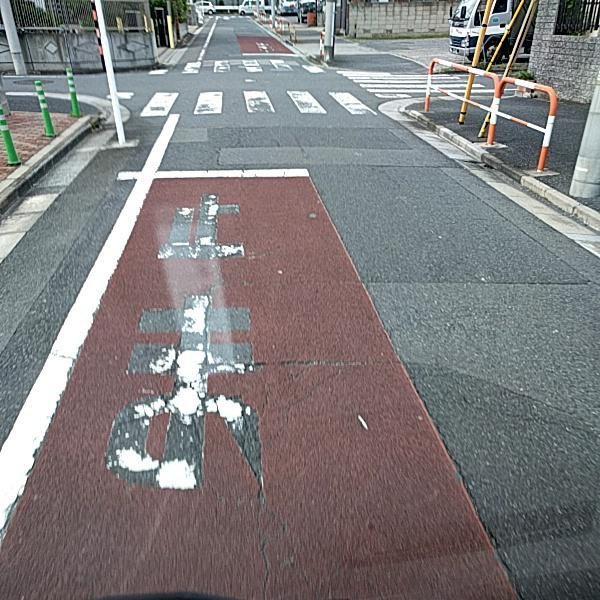D10: (440, 388, 597, 441)
D44: (116, 197, 291, 505)
